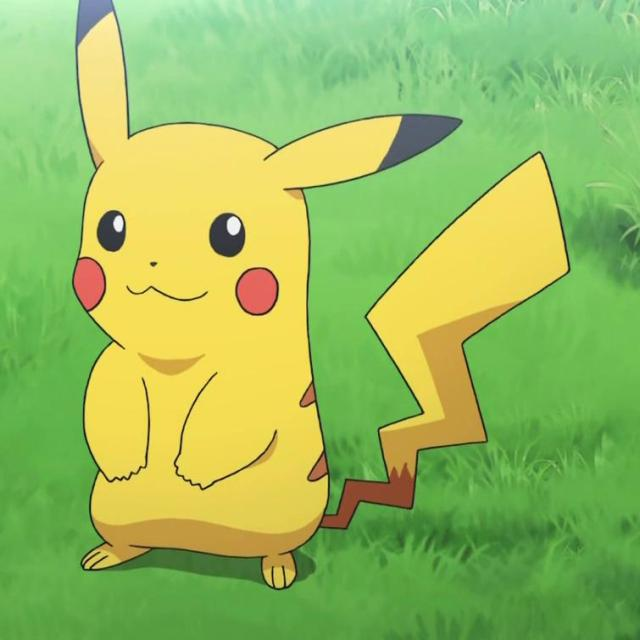pikachu: (78, 2, 571, 568)
